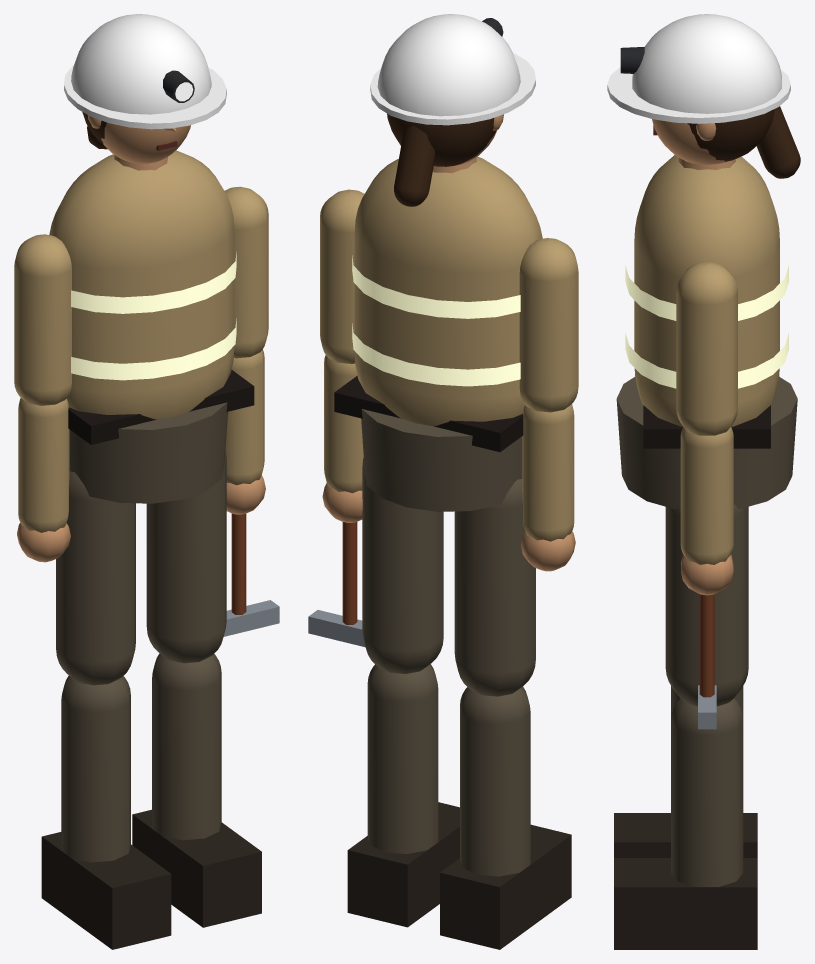
Rendered from worker_patricia.glb.
3 renders of one model, left to right at view 1: azimuth 30°, elevation 25°; view 2: azimuth 150°, elevation 25°; view 3: azimuth 270°, elevation 25°, orthographic.
Parts seen in each view (by area): view 1: worker_torso, worker_legs_0_knee, worker_legs_1_knee, worker_head, worker_legs_0_hip, worker_legs_1_hip, worker_arms_0_sh, worker_arms_0_el, worker_arms_1_sh, worker_arms_1_el, worker_prop, worker_arms_0_hand (+1 smaller); view 2: worker_torso, worker_legs_0_knee, worker_legs_1_knee, worker_head, worker_legs_0_hip, worker_legs_1_hip, worker_arms_0_sh, worker_arms_0_el, worker_arms_1_sh, worker_arms_1_el, worker_prop, worker_arms_0_hand (+1 smaller); view 3: worker_torso, worker_legs_1_knee, worker_head, worker_legs_1_hip, worker_arms_1_sh, worker_arms_1_el, worker_legs_0_knee, worker_prop, worker_arms_1_hand.
Part boxes in pixels (x1,y1,x2,y2): worker_torso: [49, 150, 254, 503]; worker_legs_0_knee: [41, 675, 171, 949]; worker_legs_1_knee: [132, 653, 261, 927]; worker_head: [64, 14, 226, 163]; worker_legs_0_hip: [56, 471, 135, 685]; worker_legs_1_hip: [146, 450, 226, 663]; worker_arms_0_sh: [14, 234, 71, 405]; worker_arms_0_el: [18, 398, 69, 532]; worker_arms_1_sh: [224, 186, 268, 358]; worker_arms_1_el: [225, 349, 264, 485]; worker_prop: [223, 513, 279, 636]; worker_arms_0_hand: [17, 523, 70, 562]; worker_torso: [334, 156, 542, 511]; worker_legs_0_knee: [440, 686, 571, 949]; worker_legs_1_knee: [347, 664, 459, 927]; worker_head: [370, 14, 535, 206]; worker_legs_0_hip: [454, 479, 535, 696]; worker_legs_1_hip: [362, 458, 443, 673]; worker_arms_0_sh: [519, 238, 578, 412]; worker_arms_0_el: [522, 404, 574, 541]; worker_arms_1_sh: [320, 189, 364, 363]; worker_arms_1_el: [324, 355, 363, 493]; worker_prop: [308, 522, 365, 647]; worker_arms_0_hand: [521, 531, 575, 571]; worker_torso: [616, 155, 797, 509]; worker_legs_1_knee: [614, 698, 757, 949]; worker_head: [607, 14, 800, 178]; worker_legs_1_hip: [665, 504, 748, 706]; worker_arms_1_sh: [676, 262, 737, 435]; worker_arms_1_el: [680, 427, 733, 564]; worker_legs_0_knee: [614, 686, 757, 857]; worker_prop: [698, 594, 716, 729]; worker_arms_1_hand: [681, 554, 733, 595].
Size of the model in its own units: 0.5652 by 1.85 by 0.363.
